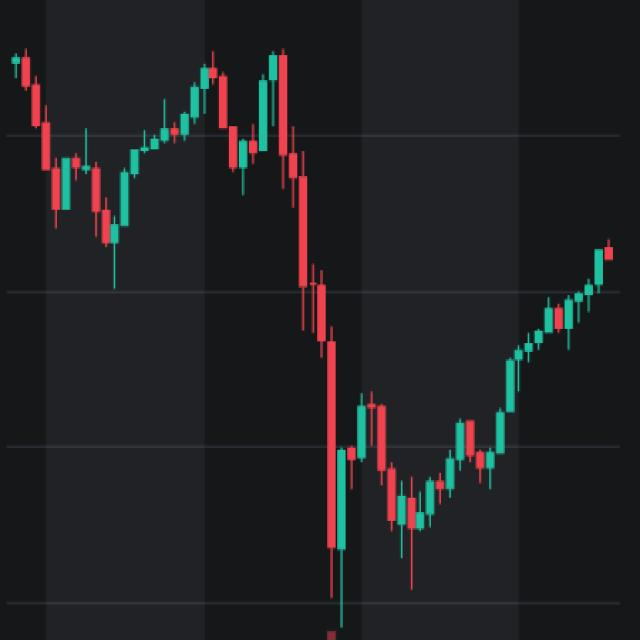Double-Top: (182, 35, 304, 212)
Inverse-Head-Shoulders: (284, 190, 608, 594)
